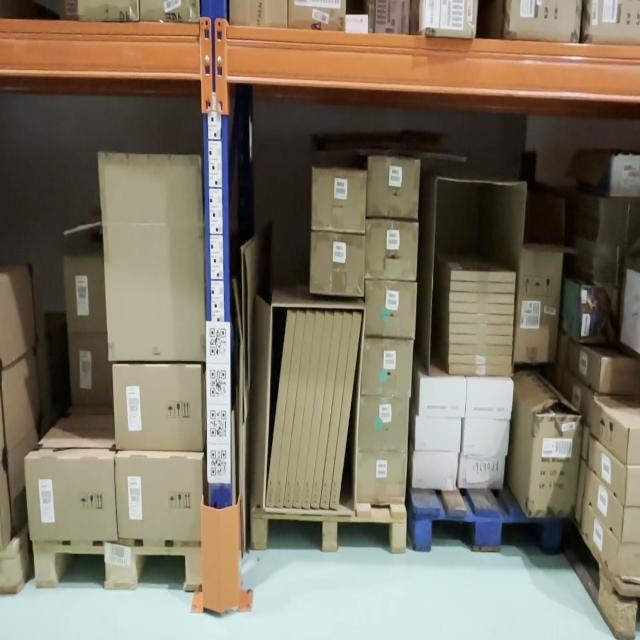box: (98, 152, 207, 361), (25, 456, 118, 542), (113, 367, 204, 448), (116, 457, 199, 539), (529, 419, 584, 521), (311, 172, 366, 234), (311, 235, 365, 293), (368, 158, 420, 218), (364, 282, 416, 338), (366, 223, 418, 278), (361, 342, 413, 397), (358, 399, 409, 452), (357, 453, 406, 504), (466, 381, 513, 420), (420, 379, 466, 418), (413, 452, 457, 489), (415, 416, 460, 452), (458, 455, 504, 490), (463, 423, 509, 456)
